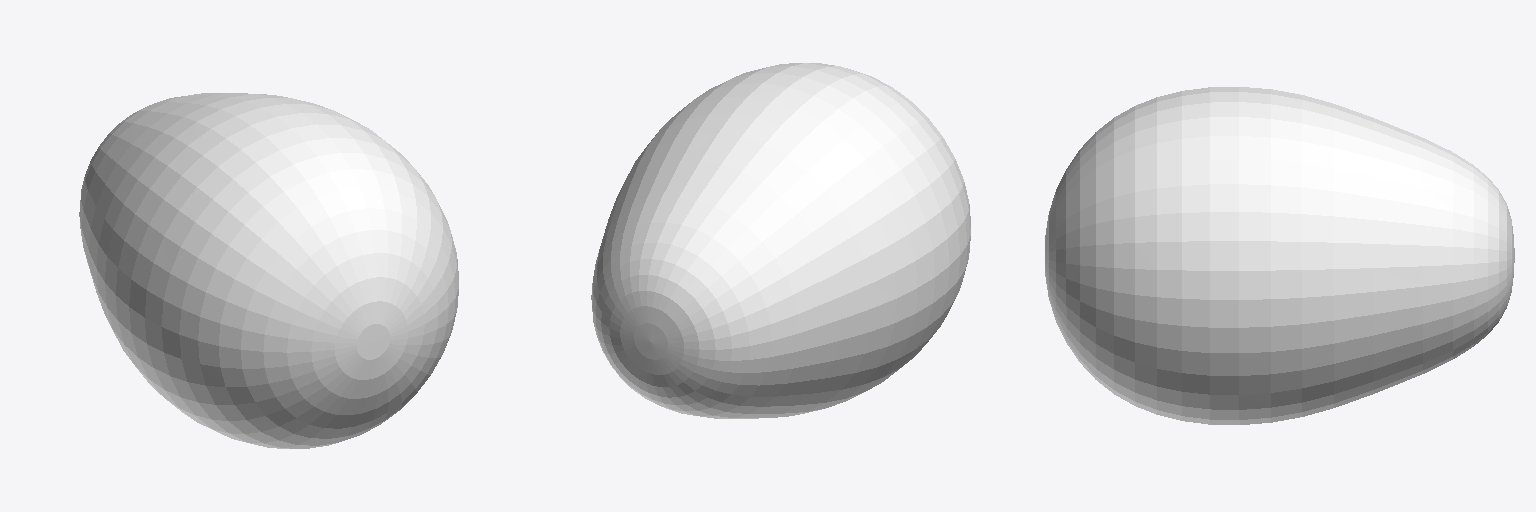
The model's file is head_ascii.obj.
3 renders of one model, left to right at view 1: azimuth 30°, elevation 25°; view 2: azimuth 150°, elevation 25°; view 3: azimuth 270°, elevation 25°, orthographic.
Parts seen in each view (by area): view 1: Object__0; view 2: Object__0; view 3: Object__0.
Boxes of the visible parts, box(x1,y1,x2,y2) form: Object__0: box(79, 93, 458, 448); Object__0: box(591, 63, 970, 418); Object__0: box(1045, 87, 1514, 424).
Bounding box in the file's own units: 0.1737 × 0.1737 × 0.24.